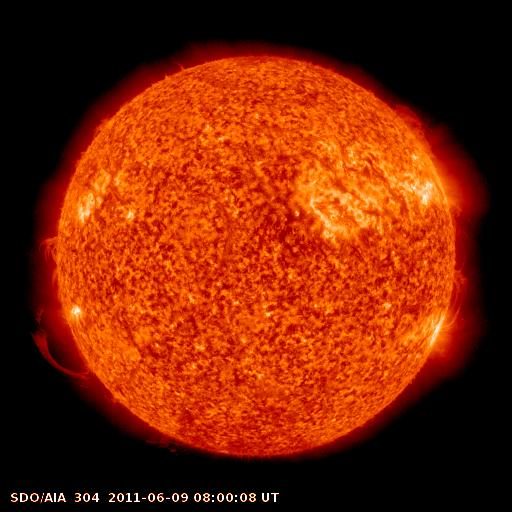prominence: (25, 301, 102, 385), (439, 222, 485, 326), (389, 98, 440, 160), (26, 229, 72, 297)
